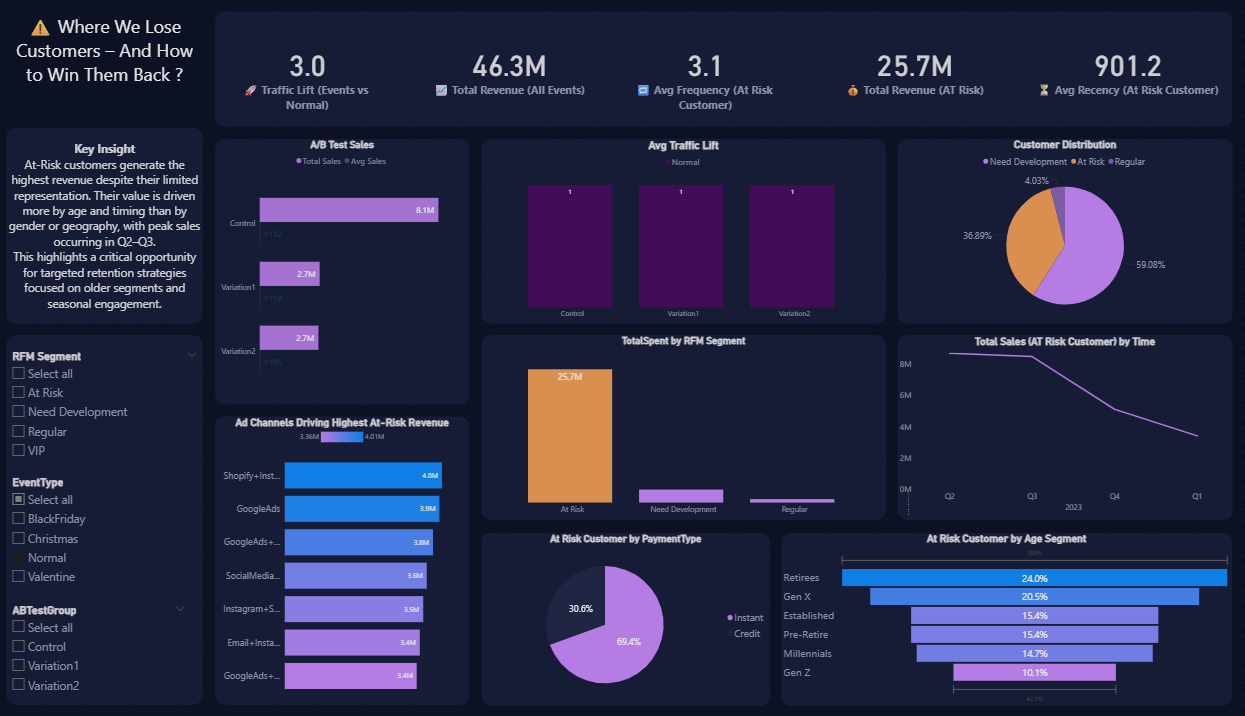

This screenshot's page, from the dashboard's own definition file:
{"tool":"powerbi","page":{"name":"DashBoard","canvas":[2600,1500],"ordinal":4},"visuals":[{"type":"shape","box":[24,264,408,408],"z":0},{"type":"shape","box":[24,696,408,768],"z":1000},{"type":"shape","box":[456,864,528,600],"z":2000},{"type":"shape","box":[1008,1104,600,360],"z":3000},{"type":"shape","box":[1632,1104,936,360],"z":4000},{"type":"shape","box":[1872,696,696,384],"z":5000},{"type":"shape","box":[1008,696,840,384],"z":6000},{"type":"shape","box":[1872,288,696,384],"z":7000},{"type":"shape","box":[456,288,528,552],"z":8000},{"type":"shape","box":[456,24,2112,240],"z":9000},{"type":"card","fields":{"Values":["Measure Table (2).TrafficEventToNormal"]},"box":[456,24,384,240],"z":10000},{"type":"card","fields":{"Values":["Measure Table.Total Sales (Events)"]},"box":[864,24,408,240],"z":11000},{"type":"card","fields":{"Values":["Measure Table.Avg Frequency (At Risk Customer)"]},"box":[1272,24,408,240],"z":12000},{"type":"card","fields":{"Values":["Measure Table.Avg Recency (At Risk Customer)"]},"box":[2136,24,432,240],"z":13000},{"type":"card","fields":{"Values":["Measure Table.Sum Sales (AT Risk Customer)"]},"box":[1680,24,456,240],"z":14000},{"type":"clusteredBarChart","title":"A/B Test Sales","fields":{"Category":["transactions.ABTestGroup"],"Y":["Sum(transactions.SaleAmountEUR)","Avg(transactions.SaleAmountEUR)"]},"box":[456,288,528,552],"z":15000},{"type":"pieChart","title":"Customer Distribution","fields":{"Category":["arpand_ecommerce_dataset.RFM Category"],"Y":["CountNonNull(arpand_ecommerce_dataset.RFM Category)"]},"box":[1872,288,696,384],"z":16000},{"type":"lineClusteredColumnComboChart","title":"TotalSpent by RFM Segment","fields":{"Category":["arpand_ecommerce_dataset.RFM Category"],"Y":["Sum(arpand_ecommerce_dataset.CleanTotalSpent)"]},"box":[1008,696,840,384],"z":17000},{"type":"lineChart","title":"Total Sales (AT Risk Customer) by Time","fields":{"Y":["Measure Table.Sum Sales (AT Risk Customer)"],"Category":["Date Table.Year Hierarchy.Year","Date Table.Year Hierarchy.Quarter","Date Table.Year Hierarchy.Month","Date Table.Year Hierarchy.Day"]},"box":[1872,696,696,384],"z":18000},{"type":"funnel","title":"At Risk Customer by Age Segment","fields":{"Category":["arpand_ecommerce_dataset.Age_Segment"],"Y":["Divide(Measure Table.At Risk Customer, ScopedEval(Measure Table.At Risk Customer, []))"]},"box":[1632,1104,936,360],"z":19000},{"type":"pieChart","fields":{"Category":["arpand_ecommerce_dataset.PaymentType"],"Y":["Measure Table.At Risk Customer"]},"box":[1008,1104,600,360],"z":20000},{"type":"clusteredBarChart","title":"Ad Channels Driving Highest At-Risk Revenue","fields":{"Category":["branches.CurrentAdStrategy"],"Y":["Measure Table.Sum Sales (AT Risk Customer)"]},"box":[456,864,528,600],"z":21000},{"type":"shape","box":[1008,288,840,384],"z":22000},{"type":"clusteredColumnChart","title":"Avg Traffic Lift","fields":{"Category":["transactions.ABTestGroup"],"Y":["Avg(transactions.TrafficMultiplier)"],"Series":["transactions.EventType"]},"box":[1008,288,840,384],"z":23000},{"type":"slicer","fields":{"Values":["arpand_ecommerce_dataset.RFM Segment"]},"box":[24,720,408,264],"z":24000},{"type":"slicer","fields":{"Values":["transactions.ABTestGroup"]},"box":[24,1248,384,216],"z":25000},{"type":"slicer","fields":{"Values":["transactions.EventType"]},"box":[24,984,384,240],"z":26000},{"type":"textbox","box":[24,288,408,384],"z":27000},{"type":"textbox","box":[24,24,408,216],"z":28000}]}

Visuals, with their boxes in screenshot pixels (x1, y1, x2, y2), scaled from the page's 2600x1500 canvas onto the 1245x716 screenshot:
shape: x1=11, y1=126, x2=207, y2=321
shape: x1=11, y1=332, x2=207, y2=699
shape: x1=218, y1=412, x2=471, y2=699
shape: x1=483, y1=527, x2=770, y2=699
shape: x1=781, y1=527, x2=1230, y2=699
shape: x1=896, y1=332, x2=1230, y2=516
shape: x1=483, y1=332, x2=885, y2=516
shape: x1=896, y1=137, x2=1230, y2=321
shape: x1=218, y1=137, x2=471, y2=401
shape: x1=218, y1=11, x2=1230, y2=126
card - Measure Table (2).TrafficEventToNormal: x1=218, y1=11, x2=402, y2=126
card - Measure Table.Total Sales (Events): x1=414, y1=11, x2=609, y2=126
card - Measure Table.Avg Frequency (At Risk Customer): x1=609, y1=11, x2=804, y2=126
card - Measure Table.Avg Recency (At Risk Customer): x1=1023, y1=11, x2=1230, y2=126
card - Measure Table.Sum Sales (AT Risk Customer): x1=804, y1=11, x2=1023, y2=126
"A/B Test Sales" clusteredBarChart: x1=218, y1=137, x2=471, y2=401
"Customer Distribution" pieChart: x1=896, y1=137, x2=1230, y2=321
"TotalSpent by RFM Segment" lineClusteredColumnComboChart: x1=483, y1=332, x2=885, y2=516
"Total Sales (AT Risk Customer) by Time" lineChart: x1=896, y1=332, x2=1230, y2=516
"At Risk Customer by Age Segment" funnel: x1=781, y1=527, x2=1230, y2=699
pieChart - arpand_ecommerce_dataset.PaymentType x Measure Table.At Risk Customer: x1=483, y1=527, x2=770, y2=699
"Ad Channels Driving Highest At-Risk Revenue" clusteredBarChart: x1=218, y1=412, x2=471, y2=699
shape: x1=483, y1=137, x2=885, y2=321
"Avg Traffic Lift" clusteredColumnChart: x1=483, y1=137, x2=885, y2=321
slicer - arpand_ecommerce_dataset.RFM Segment: x1=11, y1=344, x2=207, y2=470
slicer - transactions.ABTestGroup: x1=11, y1=596, x2=195, y2=699
slicer - transactions.EventType: x1=11, y1=470, x2=195, y2=584
textbox: x1=11, y1=137, x2=207, y2=321
textbox: x1=11, y1=11, x2=207, y2=115
